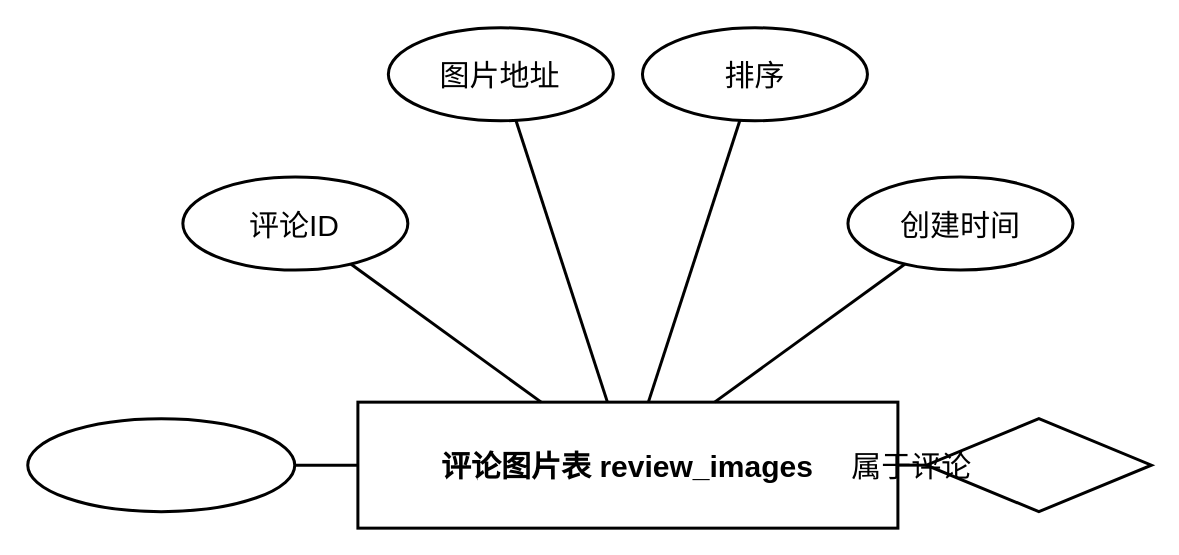
The diagram is 1179 pixels wide and 555 high, and some of its shapes have lost their labels. Each missing label, with the box of its shape:
1:n: (924, 416, 1152, 512)
评论图片ID: (26, 416, 296, 512)
